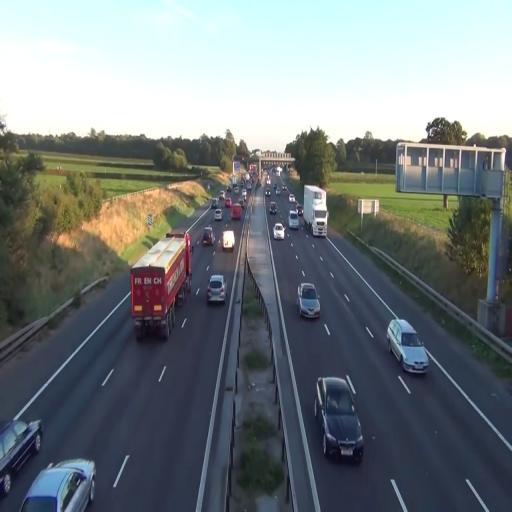vehicle: (130, 232, 192, 338), (316, 375, 364, 462), (20, 458, 96, 512), (0, 416, 44, 502), (0, 417, 43, 500), (387, 317, 429, 375), (303, 184, 328, 238), (298, 282, 320, 320), (206, 274, 226, 306), (220, 229, 236, 252), (201, 227, 215, 248), (274, 222, 286, 240), (230, 203, 242, 221), (289, 210, 299, 228)
